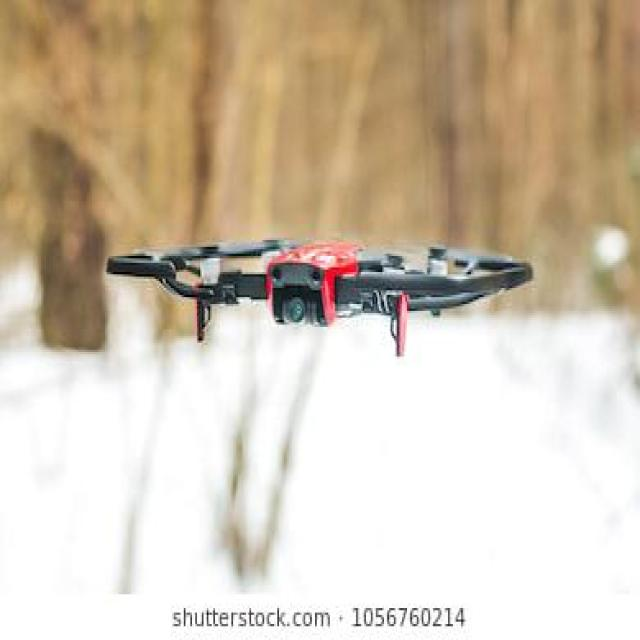drone: (85, 210, 559, 371)
